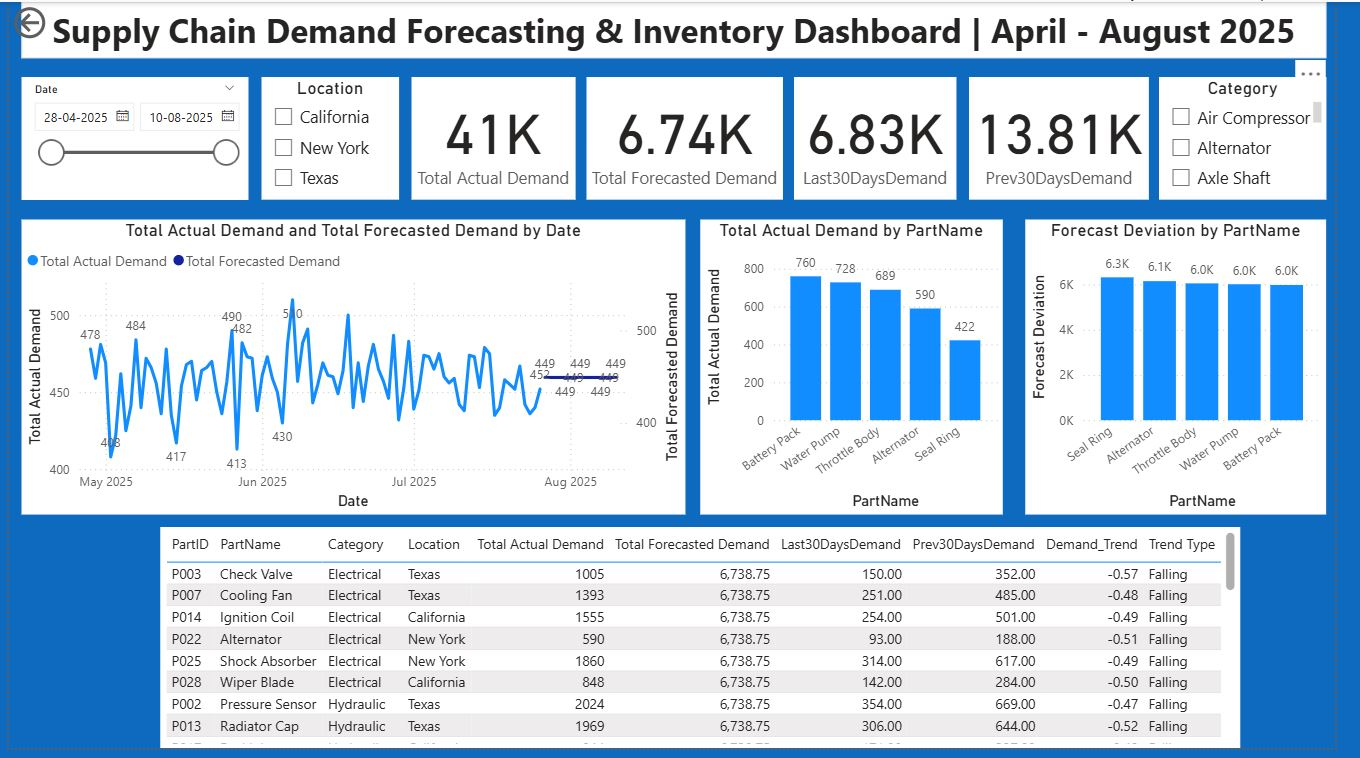

This screenshot's page, from the dashboard's own definition file:
{"tool":"powerbi","page":{"name":"Demand Trends & Forecast Overview ","canvas":[1280,720],"ordinal":1},"visuals":[{"type":"card","fields":{"Values":["Daily Demand History.Total Actual Demand"]},"box":[388.5,72.4,158,118.2],"z":0},{"type":"card","fields":{"Values":["Forecast.Total Forecasted Demand"]},"box":[557.4,72.4,189.4,118.2],"z":1000},{"type":"textbox","box":[12.1,0,1259.5,54.3],"z":2000},{"type":"lineChart","fields":{"Category":["DateTable.Date"],"Y":["Daily Demand History.Total Actual Demand"],"Y2":["Forecasted Demand.Total Forecasted Demand"]},"box":[12.1,209.9,640.6,284.7],"z":3000},{"type":"clusteredColumnChart","fields":{"Category":["Actuals.PartName"],"Y":["Actuals.Total Actual Demand"]},"box":[667.2,209.9,292,284.7],"z":4000},{"type":"tableEx","fields":{"Values":["Actuals.PartID","Actuals.PartName","Actuals.Category","Actuals.Location","Actuals.Total Actual Demand","Forecast.Total Forecasted Demand","Actuals.Last30DaysDemand","Actuals.Prev30DaysDemand","Actuals.Demand_Trend","Actuals.Trend Type"]},"box":[146,506.7,1042.4,213.5],"z":5000},{"type":"actionButton","box":[0,0,100,40],"z":6000},{"type":"slicer","title":"Location","fields":{"Values":["Daily Demand History.Location"]},"box":[243.7,72.4,132.7,118.2],"z":7000},{"type":"slicer","title":"Category","fields":{"Values":["Daily Demand History.PartName"]},"box":[1109.9,72.4,161.7,118.2],"z":8000},{"type":"slicer","fields":{"Values":["DateTable.Date"]},"box":[12.1,72.4,218.4,118.2],"z":9000},{"type":"clusteredColumnChart","fields":{"Category":["Actuals.PartName"],"Y":["Actuals.Forecast Deviation"]},"box":[980.8,209.9,290.8,284.7],"z":10000},{"type":"card","fields":{"Values":["Actuals.Last30DaysDemand"]},"box":[757.6,72.4,156.8,118.2],"z":11000},{"type":"card","fields":{"Values":["Actuals.Prev30DaysDemand"]},"box":[926.5,72.4,173.7,118.2],"z":12000}]}

Visuals, with their boxes in screenshot pixels (x1, y1, x2, y2), scaled from the page's 1280x720 canvas onto the 1360x758 screenshot:
card - Daily Demand History.Total Actual Demand: x1=413, y1=76, x2=581, y2=201
card - Forecast.Total Forecasted Demand: x1=592, y1=76, x2=793, y2=201
textbox: x1=13, y1=0, x2=1351, y2=57
lineChart - DateTable.Date x Daily Demand History.Total Actual Demand: x1=13, y1=221, x2=693, y2=521
clusteredColumnChart - Actuals.PartName x Actuals.Total Actual Demand: x1=709, y1=221, x2=1019, y2=521
tableEx - Actuals.PartID x Actuals.PartName: x1=155, y1=533, x2=1263, y2=757
actionButton: x1=0, y1=0, x2=106, y2=42
"Location" slicer: x1=259, y1=76, x2=400, y2=201
"Category" slicer: x1=1179, y1=76, x2=1351, y2=201
slicer - DateTable.Date: x1=13, y1=76, x2=245, y2=201
clusteredColumnChart - Actuals.PartName x Actuals.Forecast Deviation: x1=1042, y1=221, x2=1351, y2=521
card - Actuals.Last30DaysDemand: x1=805, y1=76, x2=972, y2=201
card - Actuals.Prev30DaysDemand: x1=984, y1=76, x2=1169, y2=201
